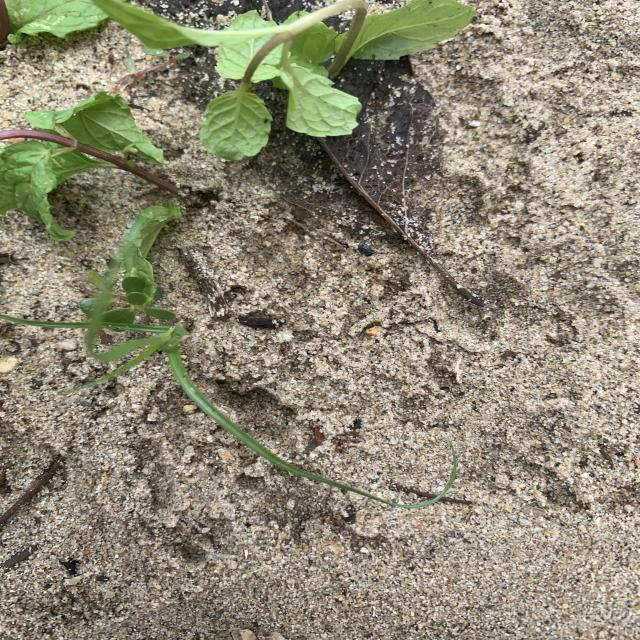crop: (94, 0, 475, 159), (0, 92, 206, 276), (2, 0, 106, 43)
weed: (0, 252, 421, 509), (101, 273, 176, 326), (112, 45, 190, 93)
